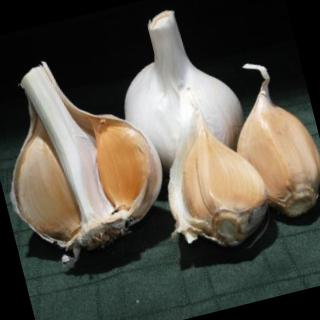Bawang Putih: (1, 43, 178, 264), (102, 1, 255, 180), (162, 100, 279, 257), (220, 68, 320, 229)
